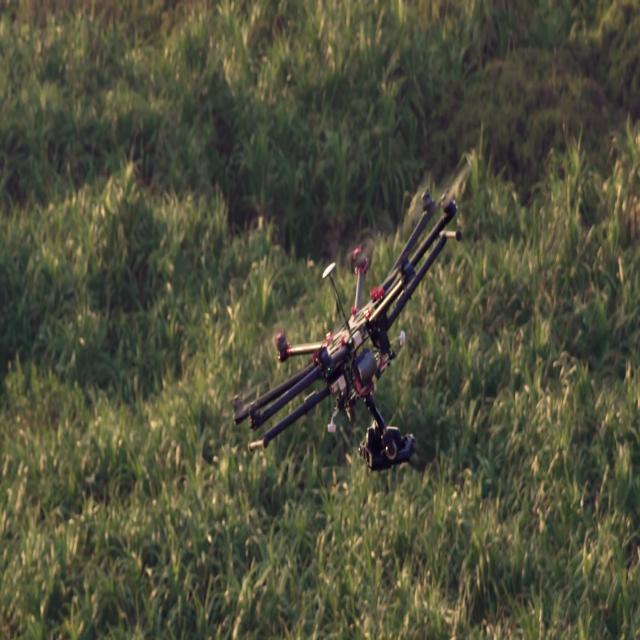drone: (227, 187, 477, 475)
